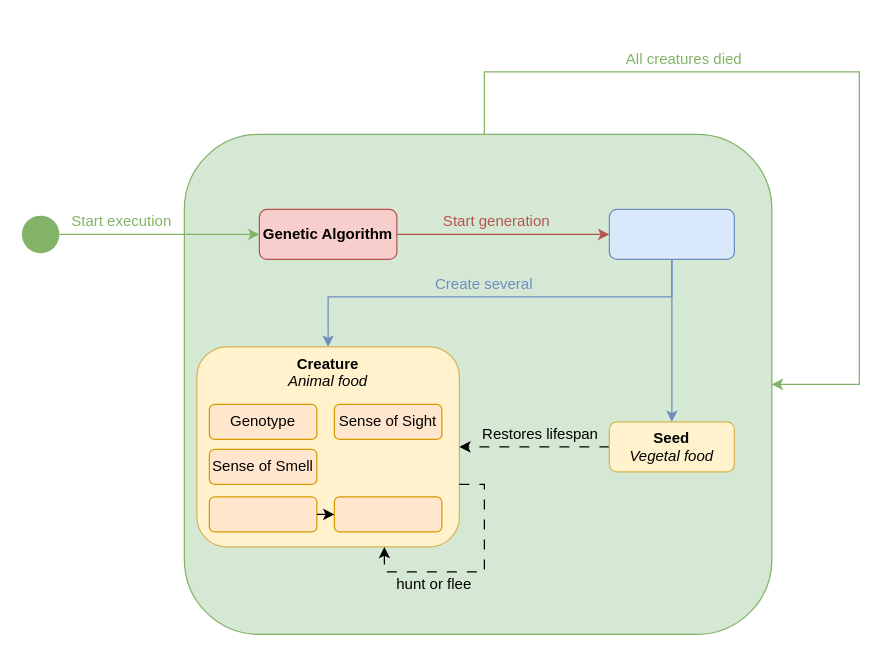
This 891x656 diagram has some shape labels left out. Each missing label, with the centre of its shape:
Decision tree: the point at 387,514
Object Pool: the point at 671,233
State machine: the point at 262,514
